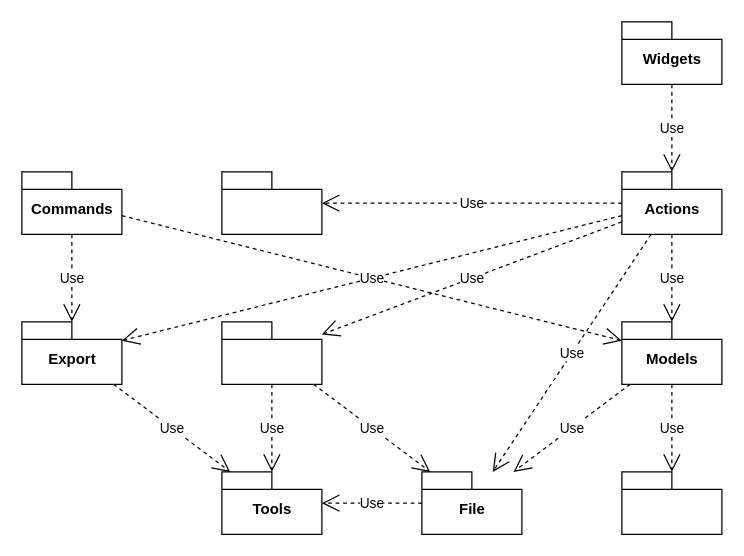
This 744x556 diagram has some shape labels left out. Here are the shapes that lost their labels. From the top down, the centre of each, then its label:
At [271,202]: "Dialogs".
At [271,352]: "Import".
At [671,502]: "Persistency".
